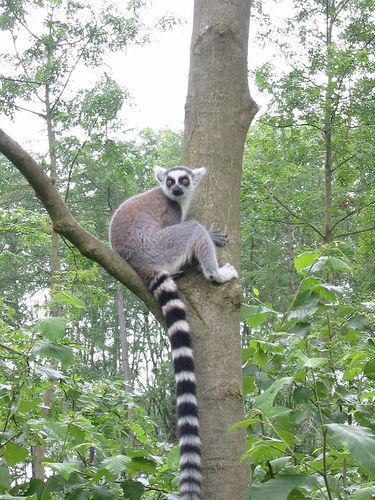cat: (106, 162, 240, 498)
